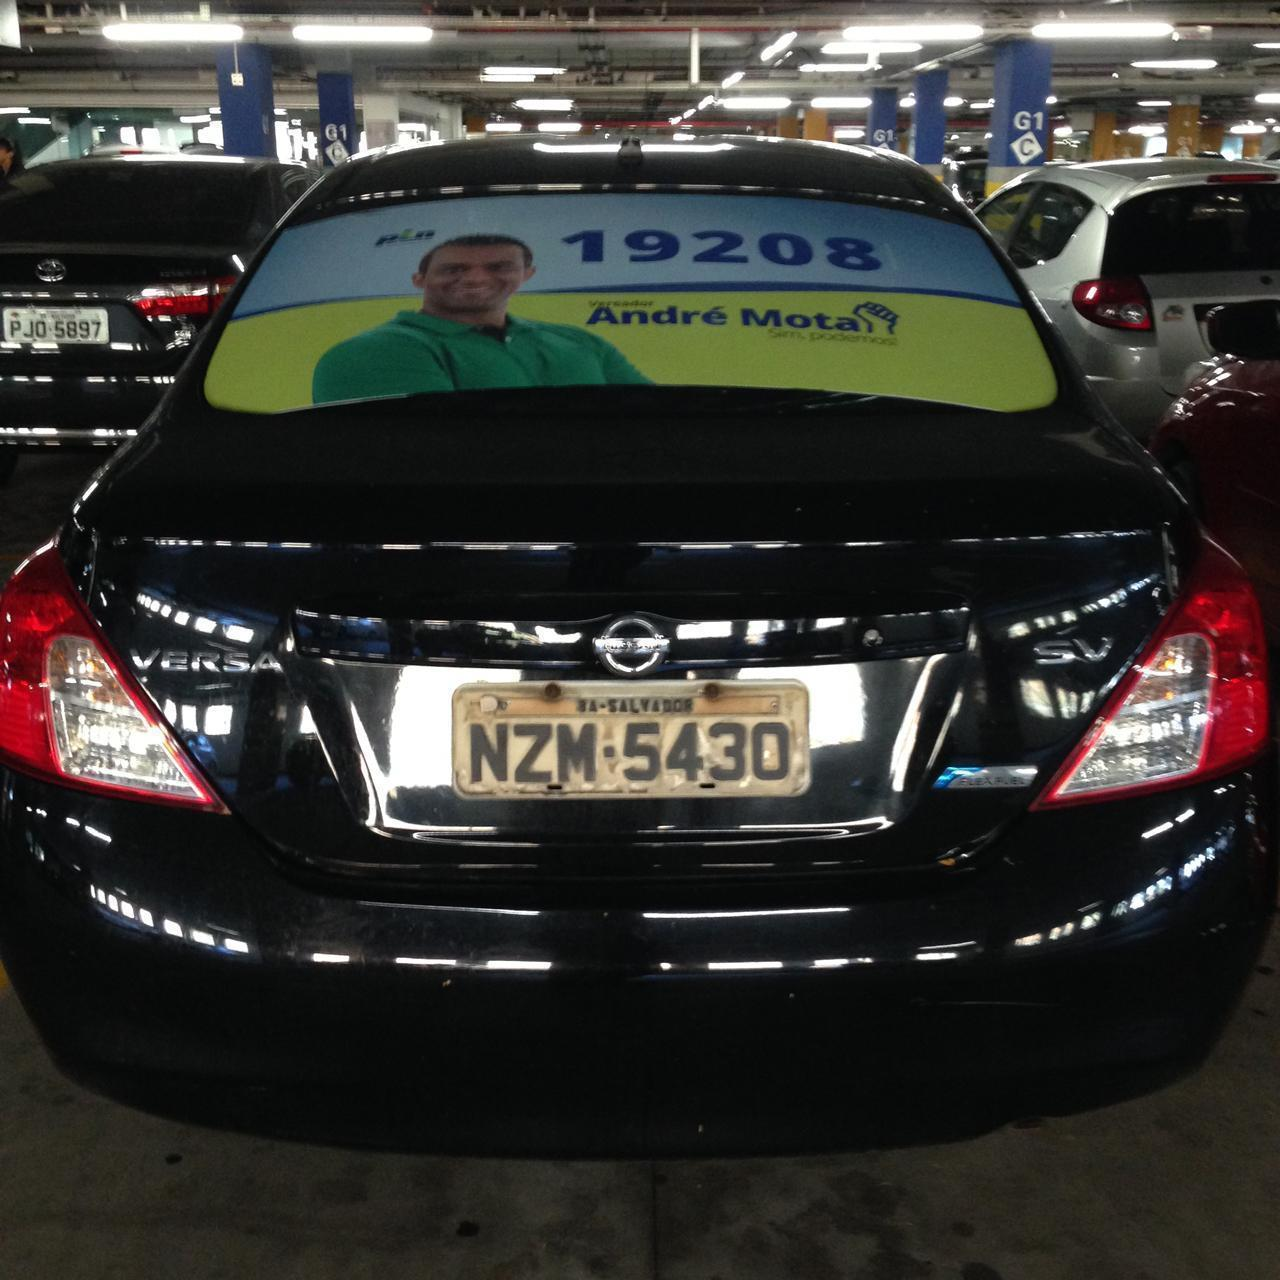placa de veiculo: (443, 657, 827, 829)
